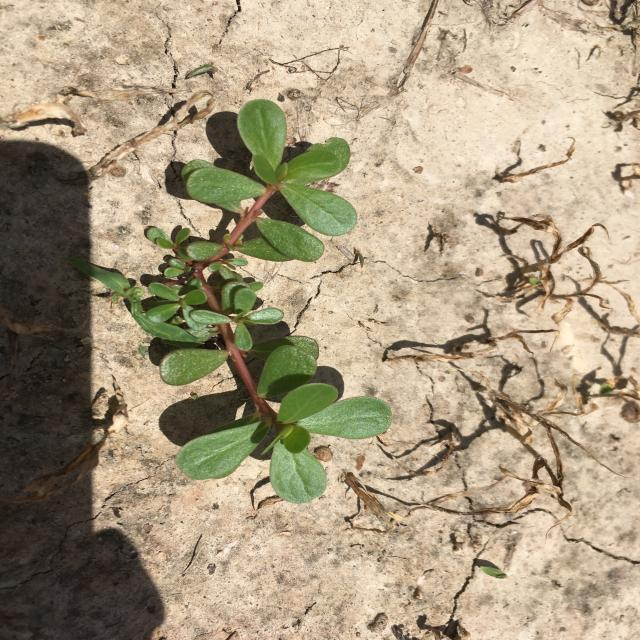Purslane: (145, 98, 393, 504)
